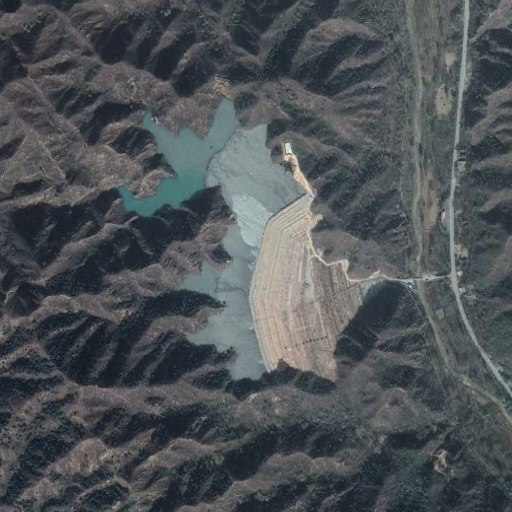tp: (119, 99, 384, 387)
